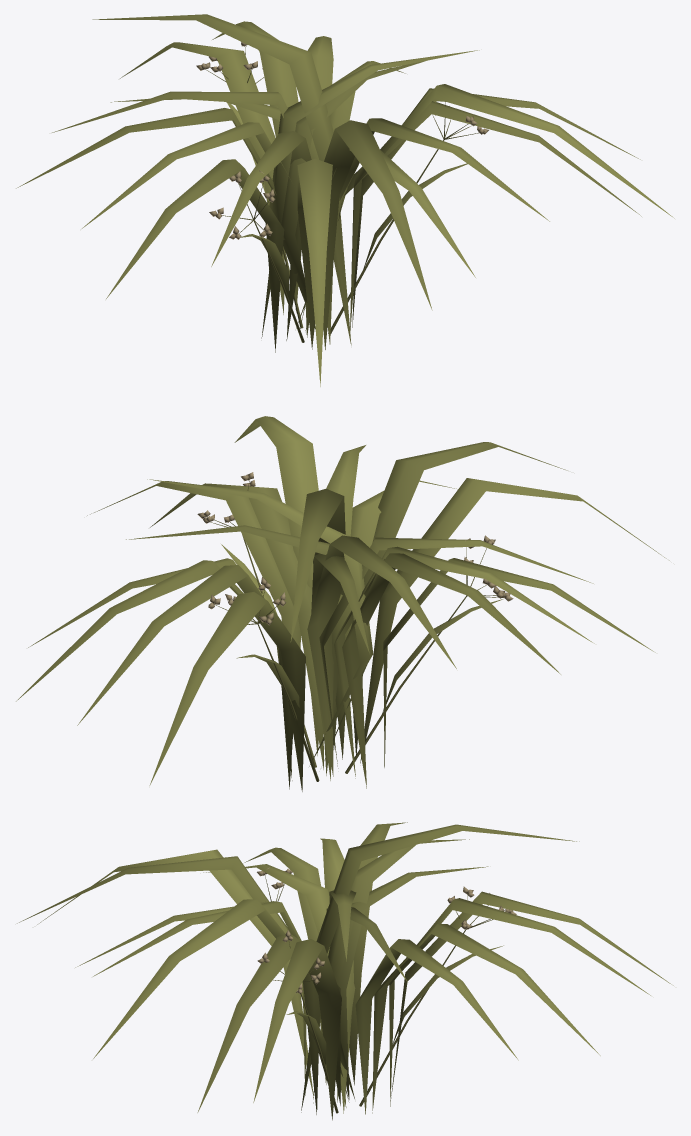
File: prairie_dropseed.glb
3 renders of one model, top to bottom at view 1: azimuth 30°, elevation 25°; view 2: azimuth 150°, elevation 25°; view 3: azimuth 270°, elevation 25°, orthographic. The views are drawn at different scales.
Visible parts, largest first — view 1: prairie_dropseed; view 2: prairie_dropseed; view 3: prairie_dropseed.
Boxes of the visible parts, x1=… form: prairie_dropseed: x1=16, y1=14, x2=674, y2=386; prairie_dropseed: x1=16, y1=416, x2=669, y2=791; prairie_dropseed: x1=17, y1=822, x2=673, y2=1120.
Size of the model in its own units: 0.8744 by 0.4367 by 1.01.
